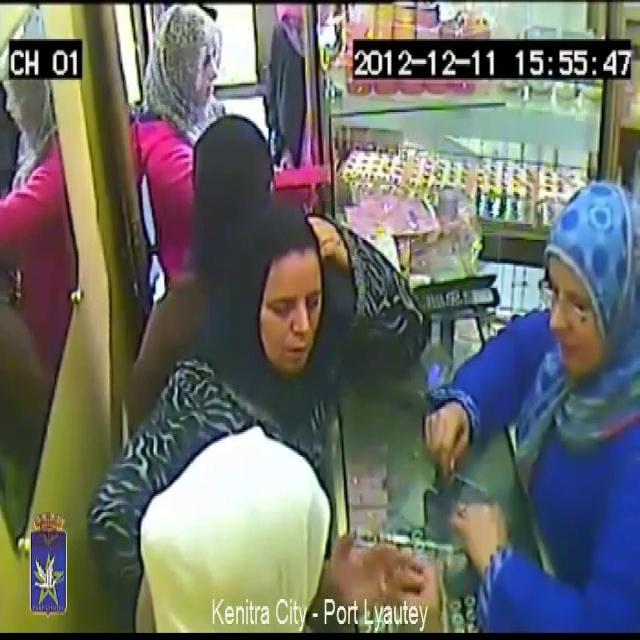Product: (399, 532, 423, 570)
normal: (464, 151, 640, 640), (152, 0, 355, 202), (226, 190, 350, 396), (175, 74, 270, 265)
shoplifting: (134, 410, 462, 640)
